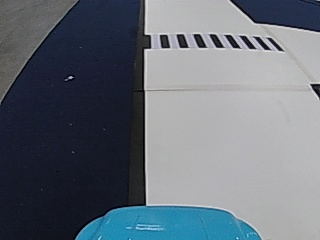CrossWalk: (144, 31, 282, 51)
